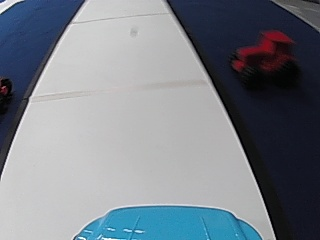tractor: (225, 26, 299, 91)
